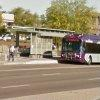Bus: (61, 31, 100, 65)
